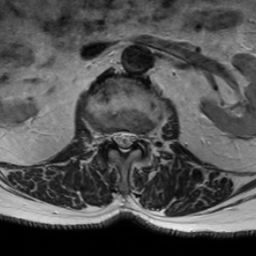CCS_normal: (120, 122, 128, 160)
LFS_stenosis: (136, 122, 145, 151)
LLS_stenosis: (128, 122, 136, 153)
RFS_normal: (102, 121, 111, 149)
RLS_normal: (111, 122, 120, 151)
